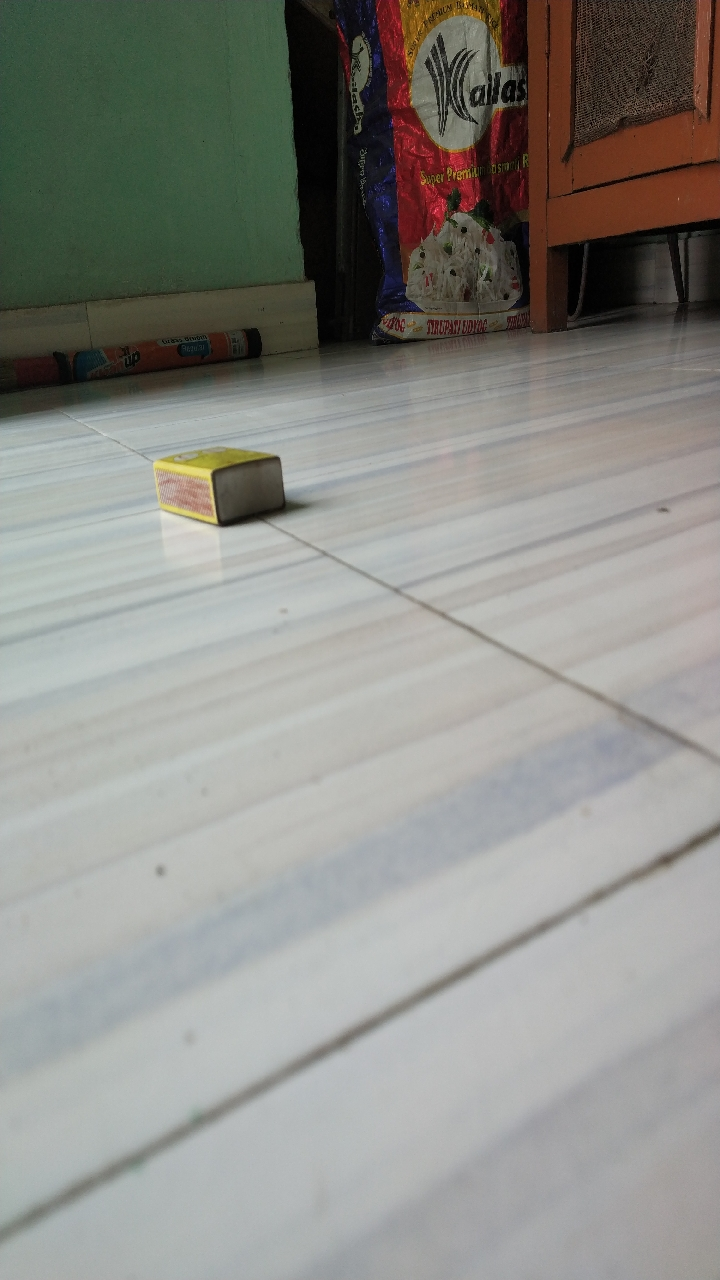Furnitures: (514, 21, 720, 337)
garments: (144, 442, 314, 541)
